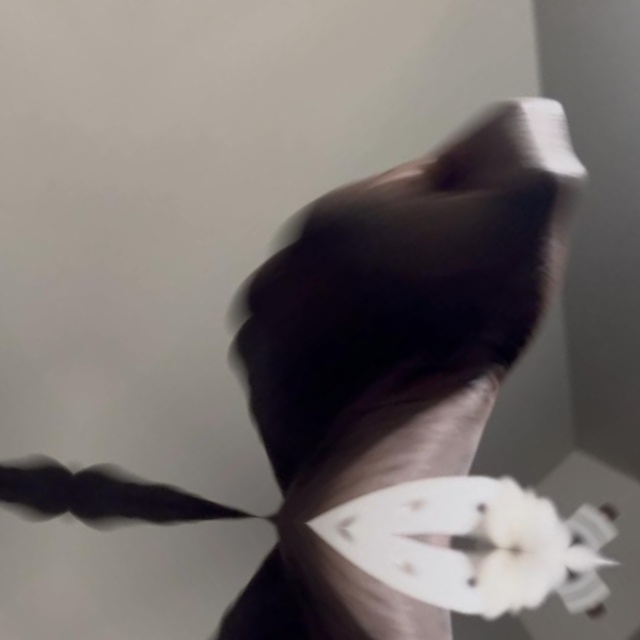Rock: (0, 0, 94, 488)
